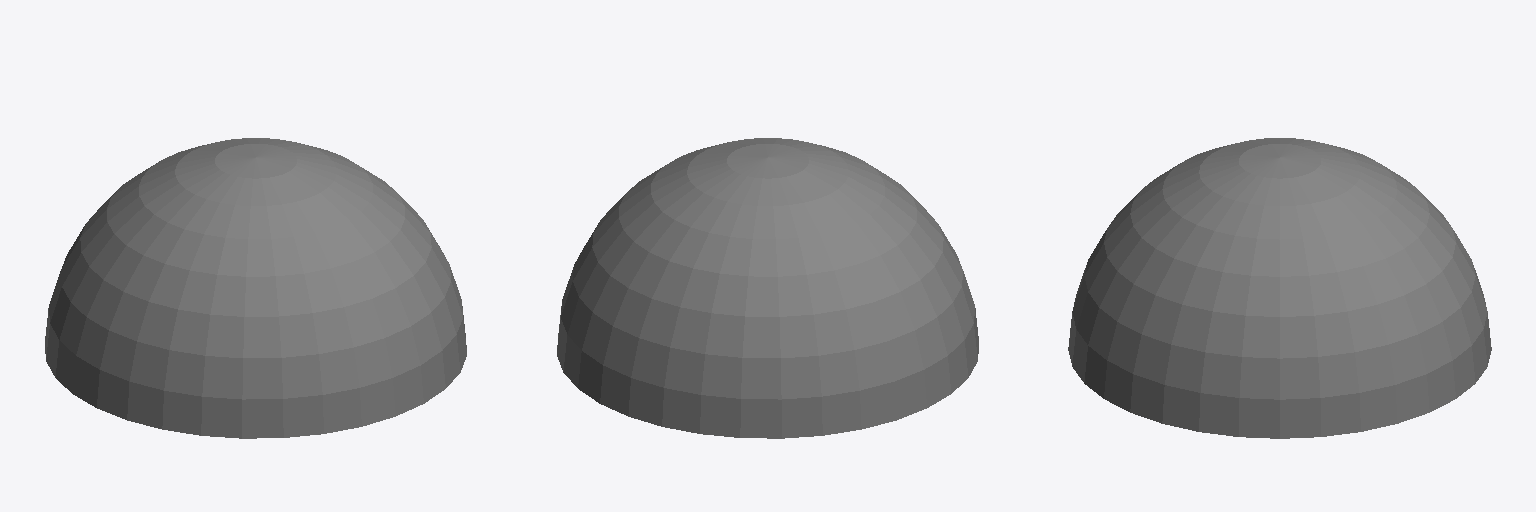
Rendered from unityexport.obj.
3 renders of one model, left to right at view 1: azimuth 30°, elevation 25°; view 2: azimuth 150°, elevation 25°; view 3: azimuth 270°, elevation 25°, orthographic.
Visible parts, largest first — view 1: Sphere; view 2: Sphere; view 3: Sphere, Sphere.001.
Part boxes in pixels (bbox=[...]): Sphere: bbox=[45, 138, 466, 438]; Sphere: bbox=[557, 138, 978, 438]; Sphere: bbox=[1068, 138, 1491, 438]; Sphere.001: bbox=[1242, 316, 1279, 358].
Bounding box in the file's own units: 207 × 106 × 207.